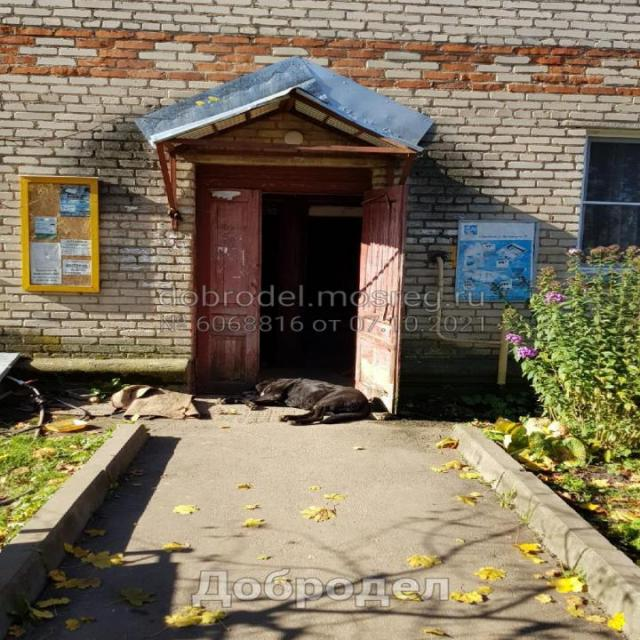dog: (245, 364, 387, 446)
